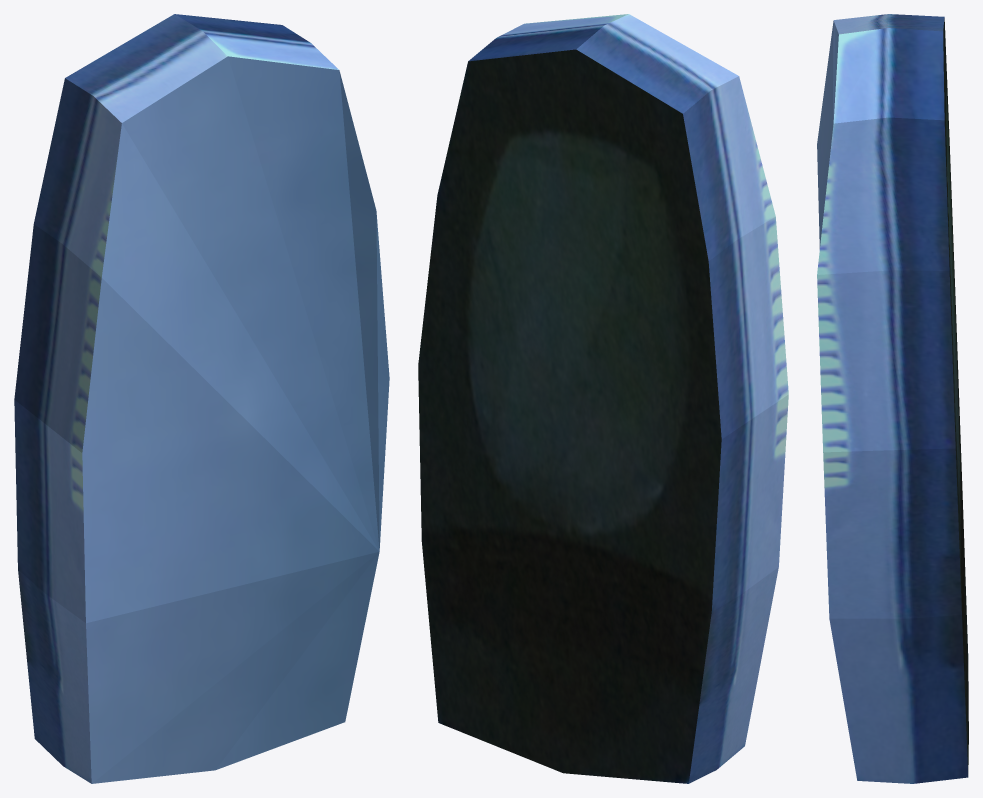
The model's file is RTF3901220729_0252L_02_normalization.obj.
3 views of the same model, side by side, from view 1: azimuth 30°, elevation 25°; view 2: azimuth 150°, elevation 25°; view 3: azimuth 270°, elevation 25° (orthographic). The views are drawn at different scales.
Visible parts, largest first — view 1: RTF3901220729_0252S_02; view 2: RTF3901220729_0252S_02; view 3: RTF3901220729_0252S_02.
Boxes of the visible parts, box(x1,y1,x2,y2) form: RTF3901220729_0252S_02: box(14, 14, 389, 783); RTF3901220729_0252S_02: box(418, 14, 788, 783); RTF3901220729_0252S_02: box(817, 14, 968, 783).
Size of the model in its own units: 0.3954 by 0.902 by 0.1736.
1 material, 1 textured.
